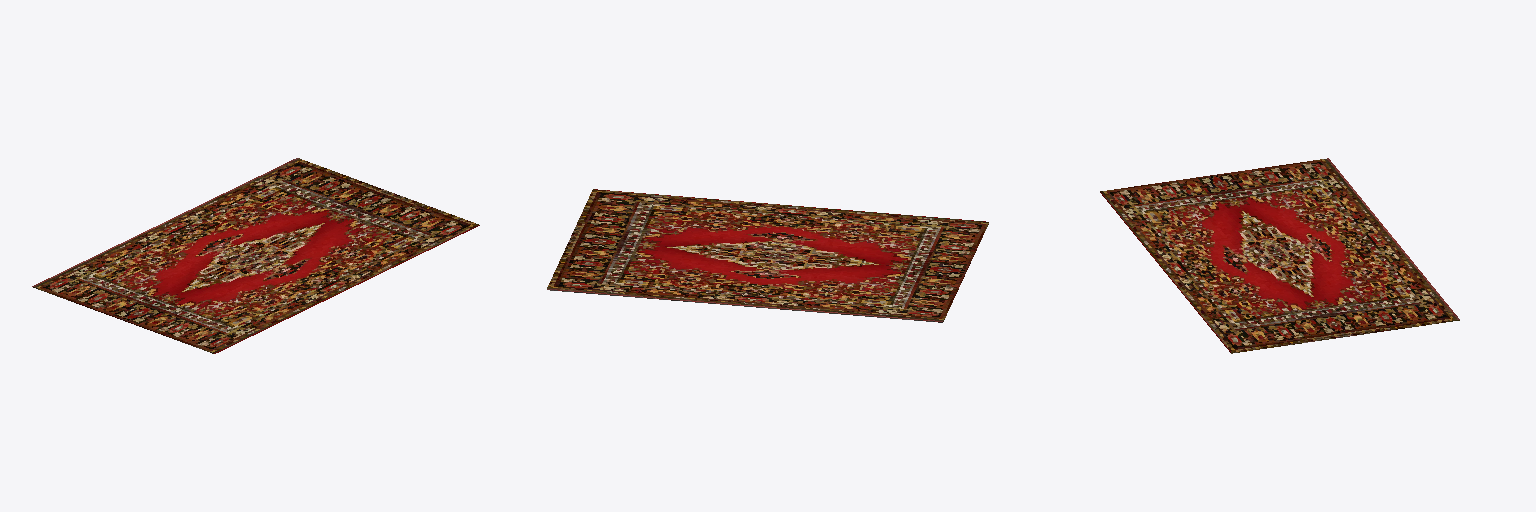
3 renders of one model, left to right at view 1: azimuth 30°, elevation 25°; view 2: azimuth 150°, elevation 25°; view 3: azimuth 270°, elevation 25°, orthographic.
Parts seen in each view (by area): view 1: Cube; view 2: Cube; view 3: Cube.
Boxes of the visible parts, x1=… form: Cube: x1=32, y1=158, x2=479, y2=353; Cube: x1=547, y1=189, x2=988, y2=322; Cube: x1=1100, y1=158, x2=1459, y2=353.
Size of the model in its own units: 9.15 by 0.0156 by 7.16.
Materials: 1 (1 with a texture image).